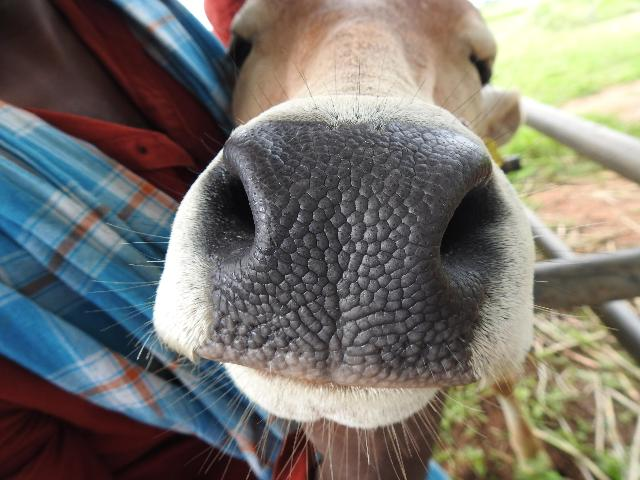Muzzle: (233, 132, 437, 377)
